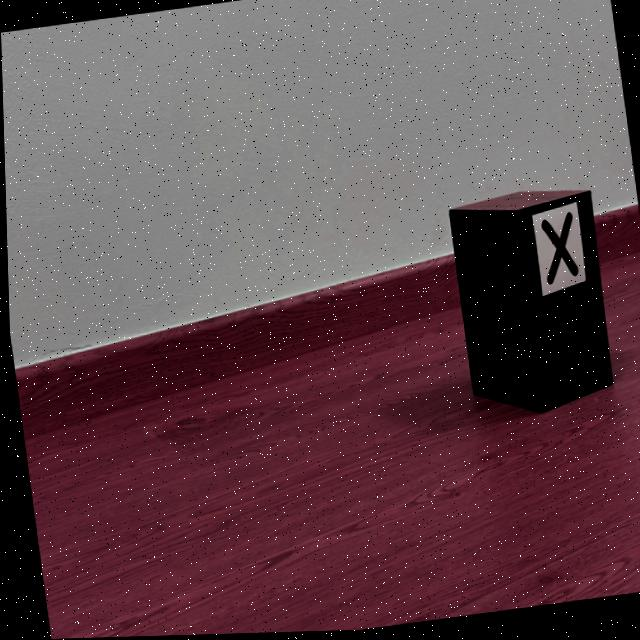X: (540, 216, 576, 288)
